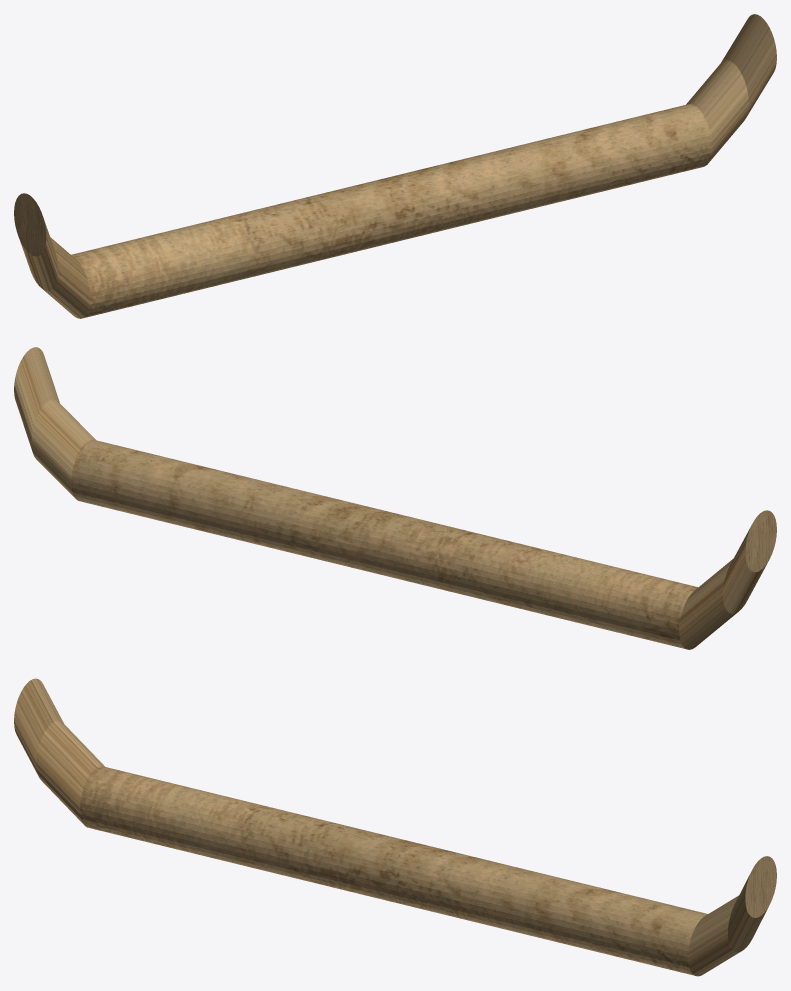
File: deer_corn.fbx
3 views of the same model, one above another, from view 1: azimuth 30°, elevation 25°; view 2: azimuth 150°, elevation 25°; view 3: azimuth 330°, elevation 25° (orthographic). The views are drawn at different scales.
Visible parts, largest first — view 1: Cylinder; view 2: Cylinder; view 3: Cylinder.
Part boxes in pixels (x1=…): Cylinder: x1=14, y1=14, x2=776, y2=318; Cylinder: x1=14, y1=347, x2=776, y2=649; Cylinder: x1=14, y1=678, x2=776, y2=976.
Size of the model in its own units: 114 by 21.02 by 12.23.
1 material, 1 textured.
